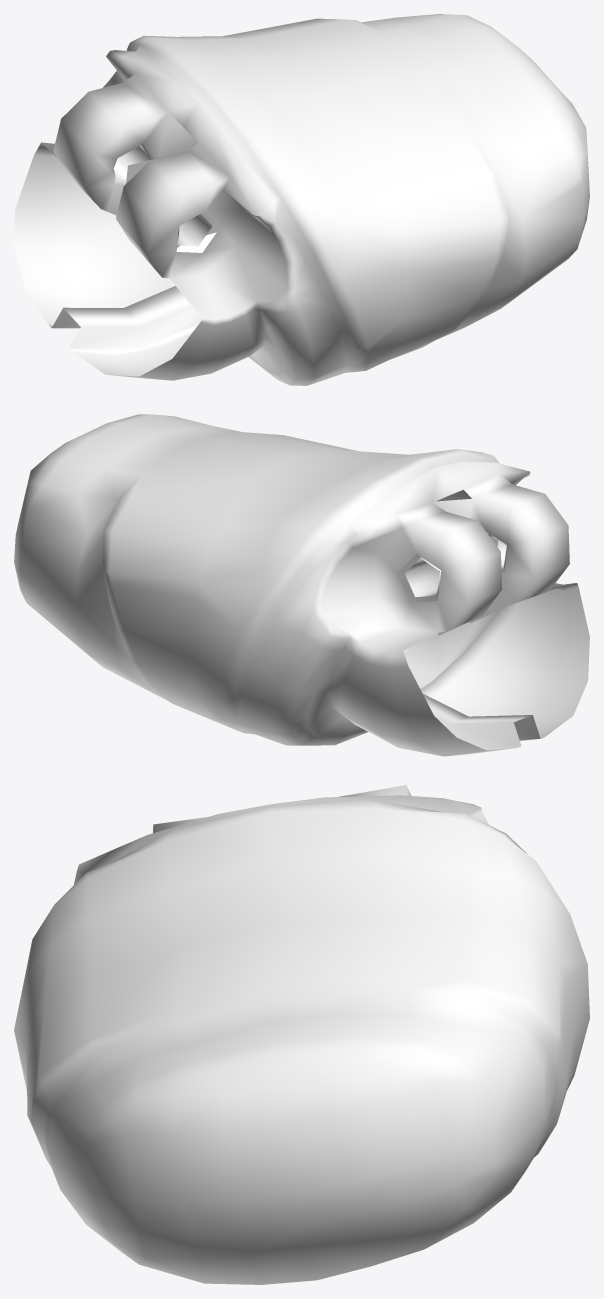
File: LFinger13.dae
3 views of the same model, one above another, from view 1: azimuth 30°, elevation 25°; view 2: azimuth 150°, elevation 25°; view 3: azimuth 270°, elevation 25° (orthographic). The views are drawn at different scales.
Parts seen in each view (by area): view 1: LFinger13; view 2: LFinger13; view 3: LFinger13.
Boxes of the visible parts, <box> form: LFinger13: <box>14,14,589,385</box>; LFinger13: <box>14,414,589,756</box>; LFinger13: <box>14,785,589,1284</box>.
Bounding box in the file's own units: 0.204 × 0.1613 × 0.1124.
1 material, 1 textured.
